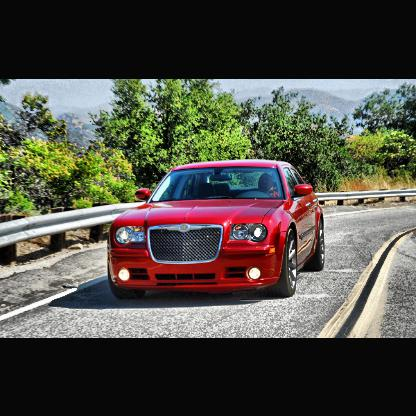Chrysler 300 SRT-8 2010: (109, 160, 328, 298)
